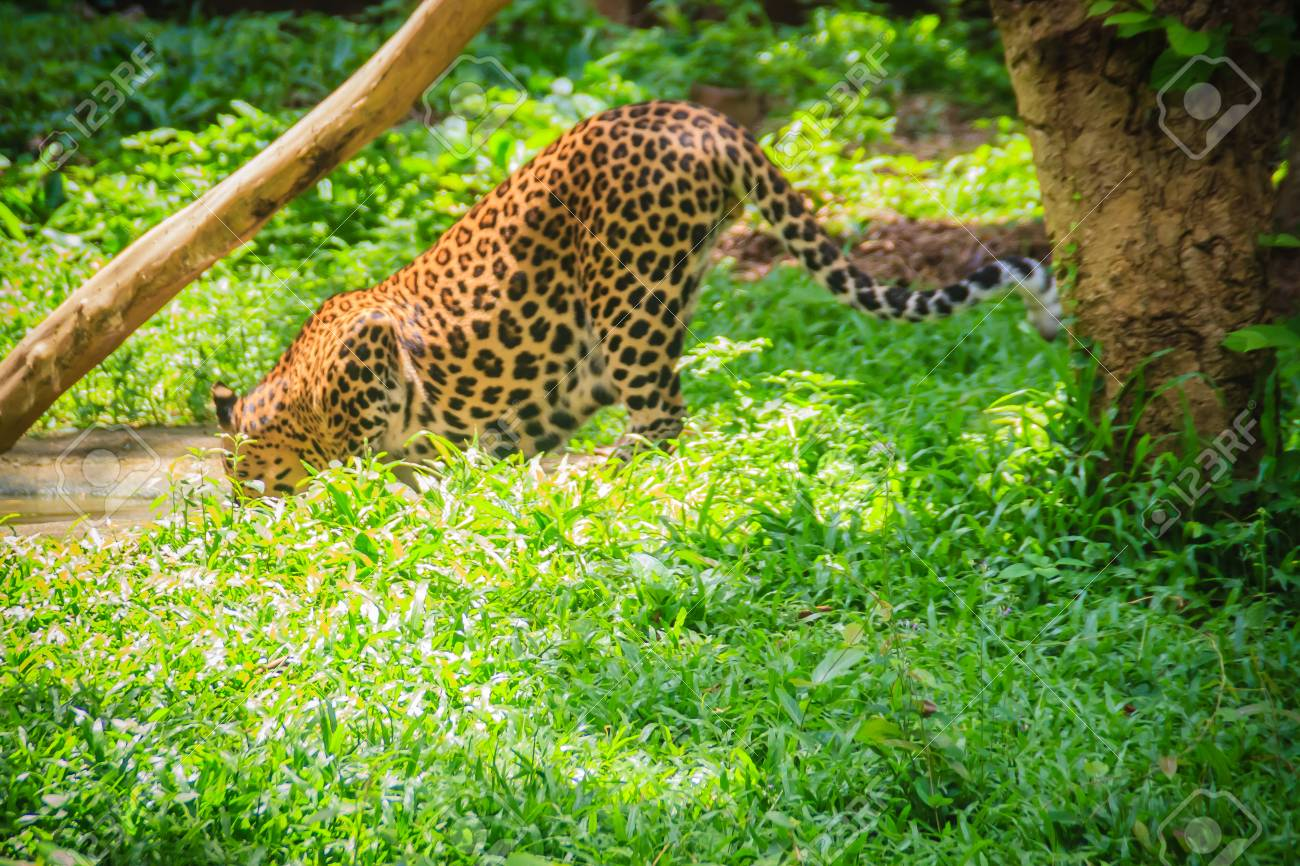leopard: (220, 83, 1051, 504)
